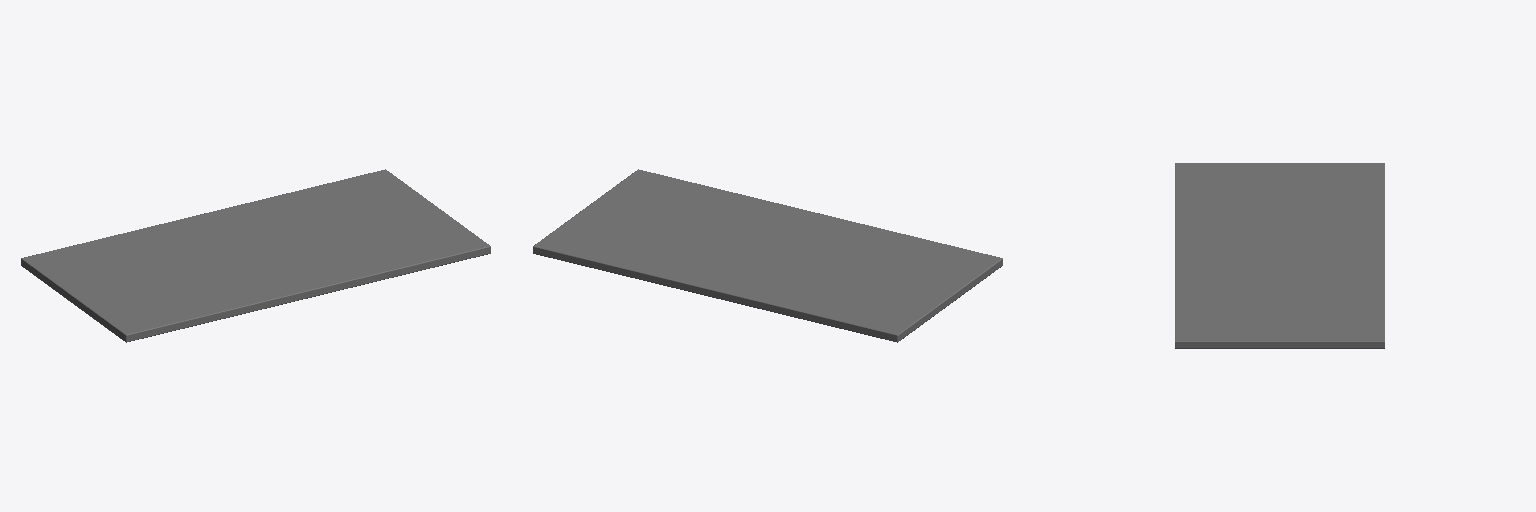
The picture shows the model from 3 angles: view 1: azimuth 30°, elevation 25°; view 2: azimuth 150°, elevation 25°; view 3: azimuth 270°, elevation 25°; orthographic projection.
Parts seen in each view (by area): view 1: drewno_mesh Fbx_Root; view 2: drewno_mesh Fbx_Root; view 3: drewno_mesh Fbx_Root.
Boxes of the visible parts, x1,y1,x2,y2 form: drewno_mesh Fbx_Root: [21, 169, 490, 342]; drewno_mesh Fbx_Root: [533, 169, 1002, 342]; drewno_mesh Fbx_Root: [1175, 163, 1384, 348].
Bounding box in the file's own units: 120 × 2.5 × 60.